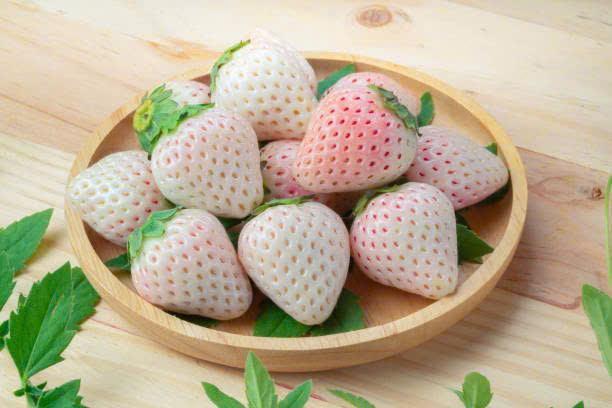strawberry: (239, 207, 358, 330), (299, 74, 420, 194), (359, 189, 491, 291), (149, 117, 262, 220), (414, 128, 524, 227), (207, 47, 325, 131), (133, 229, 256, 305), (62, 162, 165, 240)
